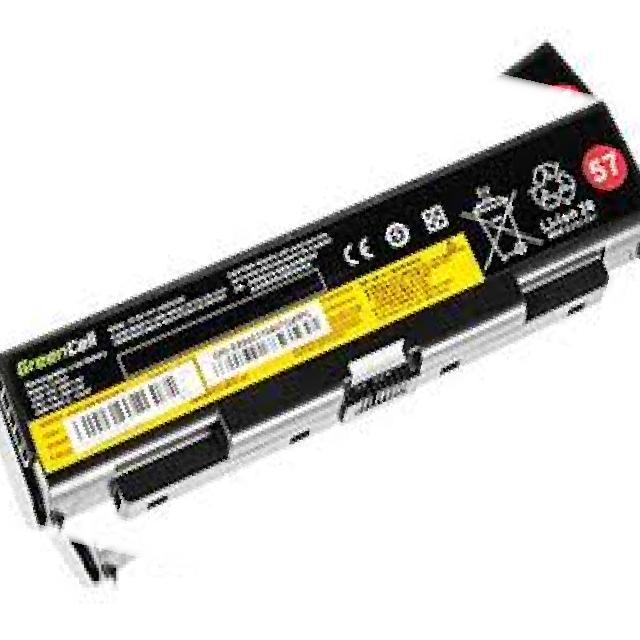Battery: (0, 100, 640, 586)
